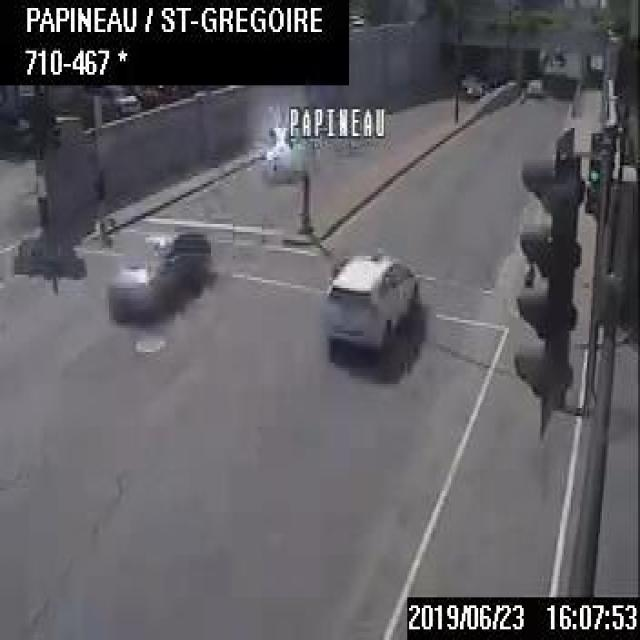vehicle: (316, 248, 418, 355), (106, 222, 208, 318), (459, 73, 484, 96), (522, 75, 542, 93)
